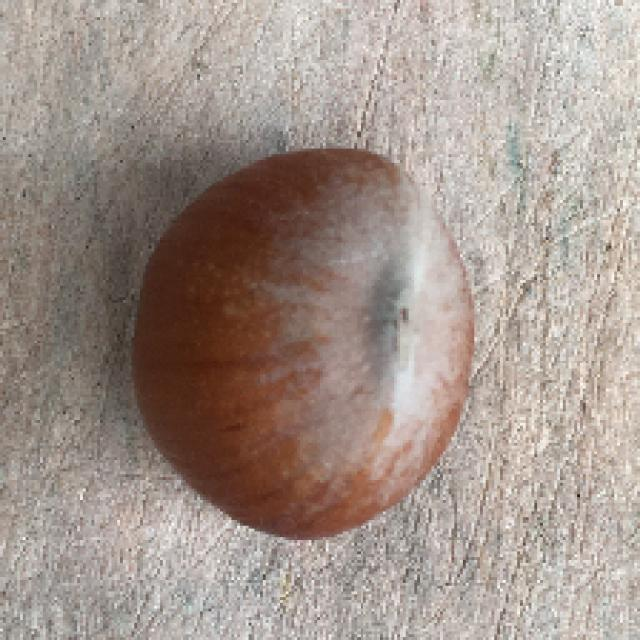qualityHazelnut: (127, 143, 482, 540)
